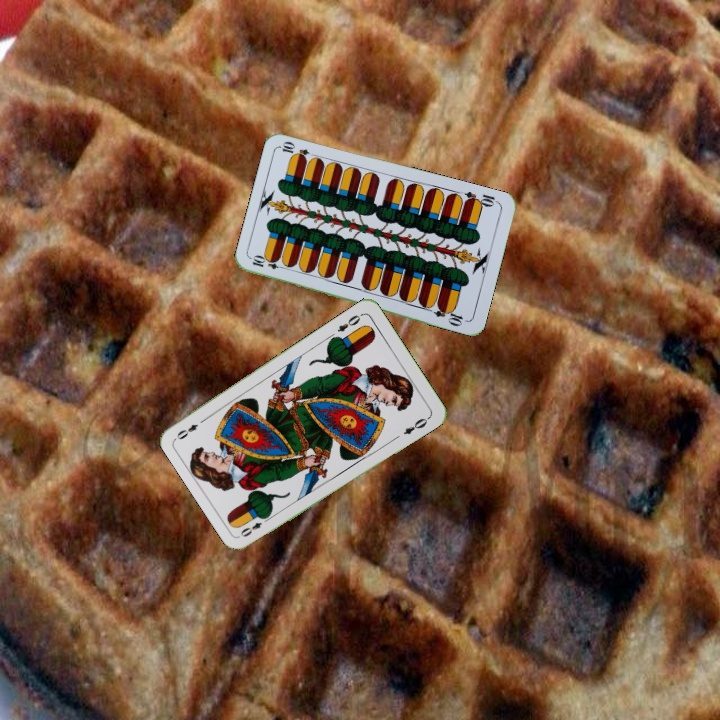E10: (460, 187, 501, 210), (248, 253, 289, 272)
EO: (236, 512, 273, 540), (333, 309, 365, 335)
